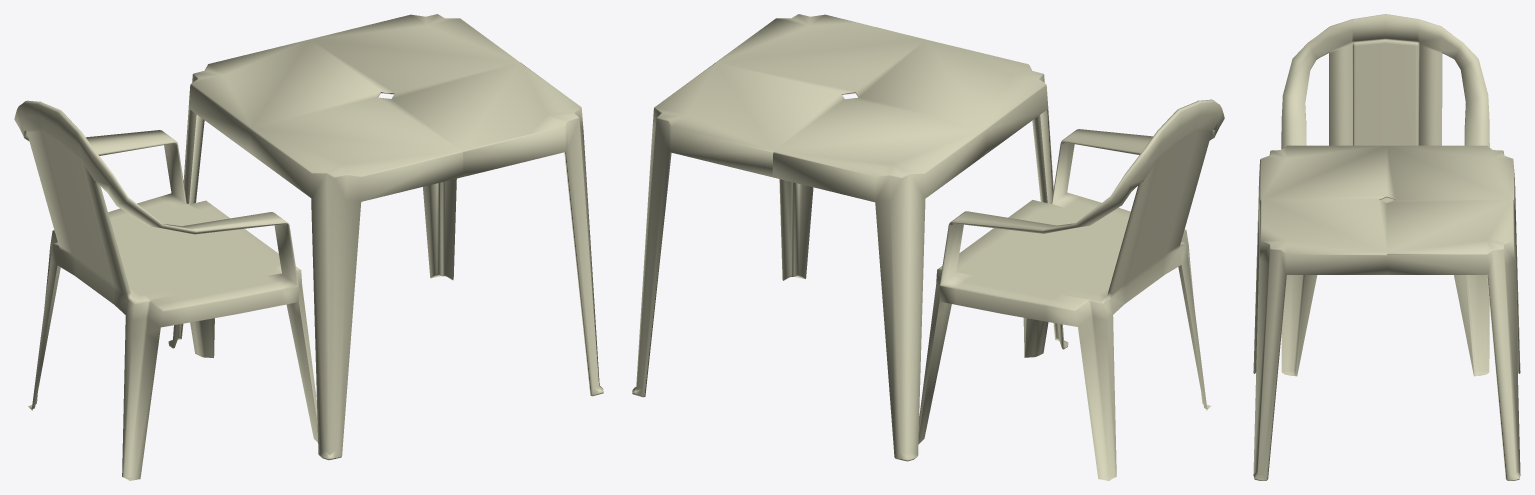
File: Mesa-plastico.fbx
3 renders of one model, left to right at view 1: azimuth 30°, elevation 25°; view 2: azimuth 150°, elevation 25°; view 3: azimuth 270°, elevation 25°, orthographic. The views are drawn at different scales.
Visible parts, largest first — view 1: mesa-plastico, cadeira-plastico; view 2: mesa-plastico, cadeira-plastico; view 3: mesa-plastico, cadeira-plastico.
Boxes of the visible parts, box(x1,y1,x2,y2) form: mesa-plastico: box(168, 14, 603, 460); cadeira-plastico: box(14, 100, 317, 480); mesa-plastico: box(632, 14, 1068, 461); cadeira-plastico: box(918, 99, 1224, 480); mesa-plastico: box(1253, 145, 1520, 480); cadeira-plastico: box(1281, 14, 1489, 376).
Size of the model in its own units: 59.53 by 40.87 by 35.53.
